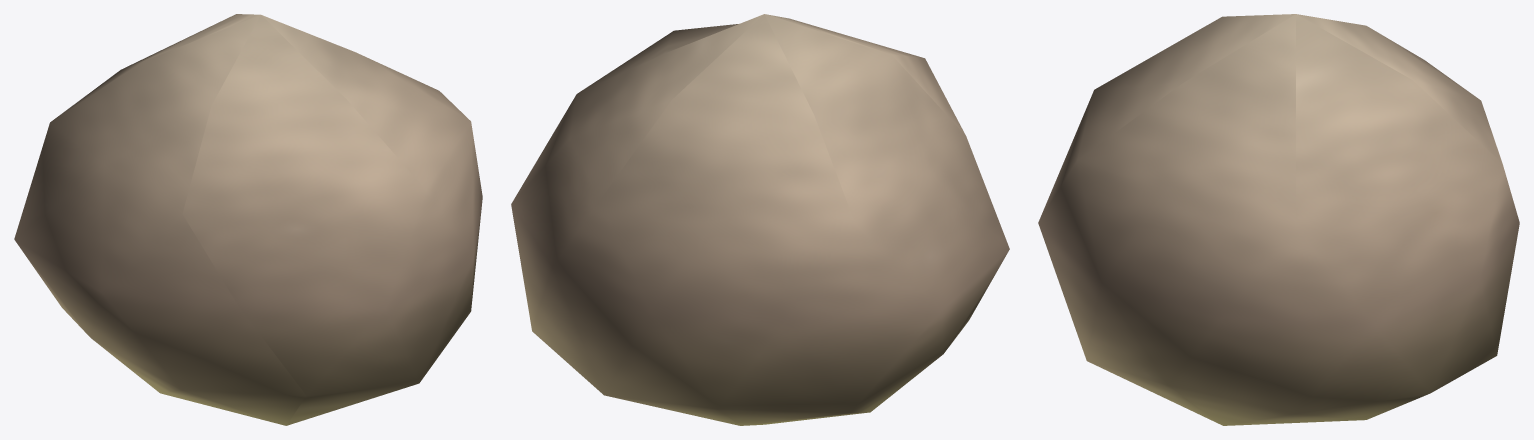
Rendered from nature_boulder.3.glb.
3 views of the same model, side by side, from view 1: azimuth 30°, elevation 25°; view 2: azimuth 150°, elevation 25°; view 3: azimuth 270°, elevation 25° (orthographic). The views are drawn at different scales.
Visible parts, largest first — view 1: nature_boulder.3; view 2: nature_boulder.3; view 3: nature_boulder.3.
Boxes of the visible parts, x1,y1,x2,y2 form: nature_boulder.3: [14, 14, 482, 425]; nature_boulder.3: [511, 14, 1009, 425]; nature_boulder.3: [1038, 14, 1519, 425].
Size of the model in its own units: 0.8804 by 0.8 by 0.8671.
Materials: 1 (1 with a texture image).
